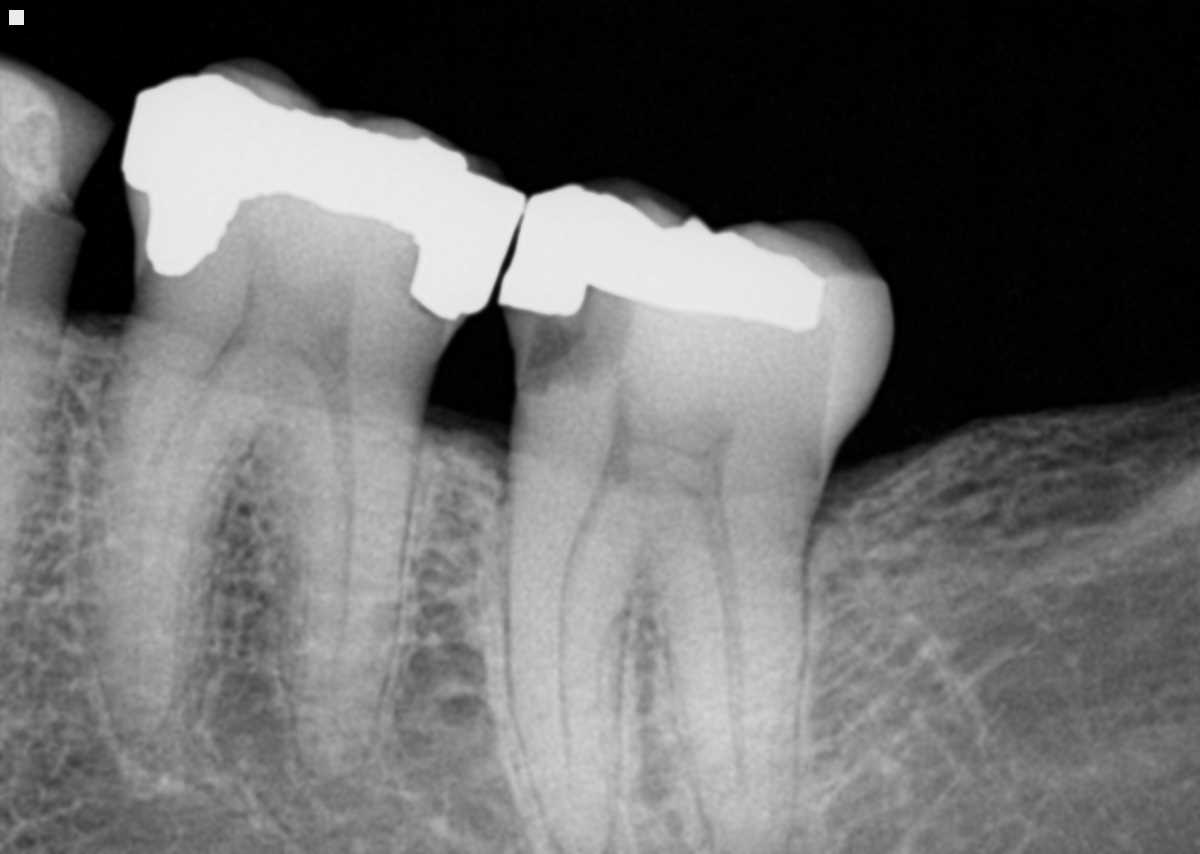Distal Canal: (322, 404, 358, 763), (707, 524, 746, 804)
Distal Root: (277, 403, 424, 780), (655, 514, 818, 853)
Main Root: (0, 302, 65, 606)
Mesial Canal: (133, 378, 220, 677), (556, 496, 612, 784)
Mesial Root: (75, 337, 260, 739), (507, 469, 649, 853)
decay: (499, 290, 641, 396)
